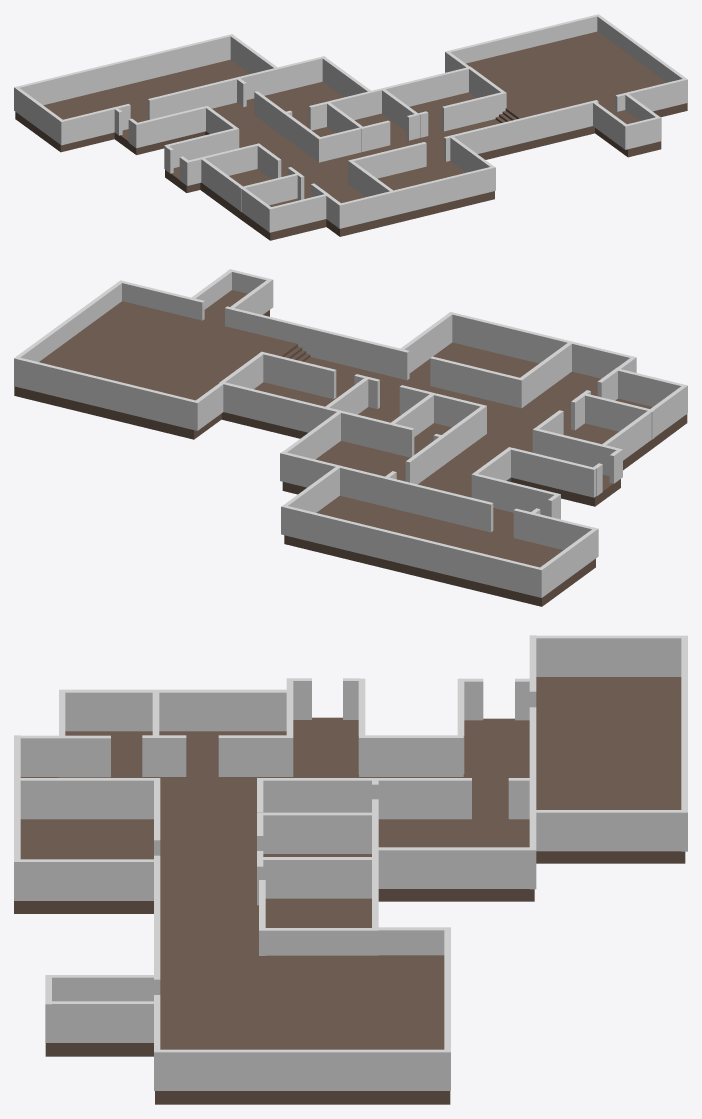
Rendered from cala-floorplan-draft2.fbx.
The picture shows the model from 3 angles, top to bottom: view 1: azimuth 30°, elevation 25°; view 2: azimuth 150°, elevation 25°; view 3: azimuth 270°, elevation 25°; orthographic projection. The views are drawn at different scales.
Parts seen in each view (by area): view 1: Floor, Cube, Cube.008, Cube.006, Cube.004, Cube.044, Cube.005, Cube.003, Cube.042, Cube.002, Cube.022, Cube.045 (+28 smaller); view 2: Floor, Cube, Cube.004, Cube.008, Cube.044, Cube.006, Cube.003, Cube.022, Cube.005, Cube.037, Cube.013, Cube.002 (+28 smaller); view 3: Floor, Cube.019, Cube.002, Cube.015, Cube.001, Cube.046, Cube.021, Cube.020, Cube.028, Cube.011, Cube.041, Cube.017 (+17 smaller).
Boxes of the visible parts, left/top/right/bottom form: Floor: left=15, top=31, right=687, bottom=240; Cube: left=14, top=34, right=233, bottom=110; Cube.008: left=444, top=100, right=598, bottom=161; Cube.006: left=391, top=166, right=495, bottom=215; Cube.004: left=445, top=14, right=599, bottom=72; Cube.044: left=147, top=77, right=236, bottom=119; Cube.005: left=236, top=56, right=325, bottom=99; Cube.003: left=380, top=67, right=470, bottom=113; Cube.042: left=135, top=106, right=205, bottom=148; Cube.002: left=201, top=158, right=272, bottom=230; Cube.022: left=348, top=142, right=426, bottom=184; Cube.045: left=59, top=104, right=130, bottom=145; Floor: left=14, top=290, right=687, bottom=606; Cube: left=281, top=505, right=543, bottom=597; Cube.004: left=14, top=357, right=198, bottom=430; Cube.008: left=225, top=306, right=409, bottom=380; Cube.044: left=386, top=477, right=493, bottom=532; Cube.006: left=448, top=312, right=573, bottom=363; Cube.003: left=220, top=382, right=327, bottom=432; Cube.022: left=430, top=356, right=523, bottom=408; Cube.005: left=280, top=451, right=388, bottom=506; Cube.037: left=511, top=448, right=595, bottom=497; Cube.013: left=260, top=351, right=336, bottom=399; Cube.002: left=601, top=384, right=686, bottom=460; Floor: left=14, top=677, right=685, bottom=1104; Cube.019: left=159, top=1049, right=445, bottom=1090; Cube.002: left=59, top=689, right=289, bottom=731; Cube.015: left=378, top=847, right=529, bottom=888; Cube.001: left=536, top=635, right=683, bottom=676; Cube.046: left=536, top=810, right=682, bottom=851; Cube.021: left=18, top=778, right=158, bottom=819; Cube.020: left=19, top=859, right=158, bottom=900; Cube.028: left=259, top=812, right=378, bottom=853; Cube.011: left=257, top=857, right=376, bottom=898; Cube.041: left=359, top=735, right=463, bottom=776; Cube.017: left=48, top=1001, right=157, bottom=1042.
Bounding box in the file's own units: 1312 × 76.89 × 896.
